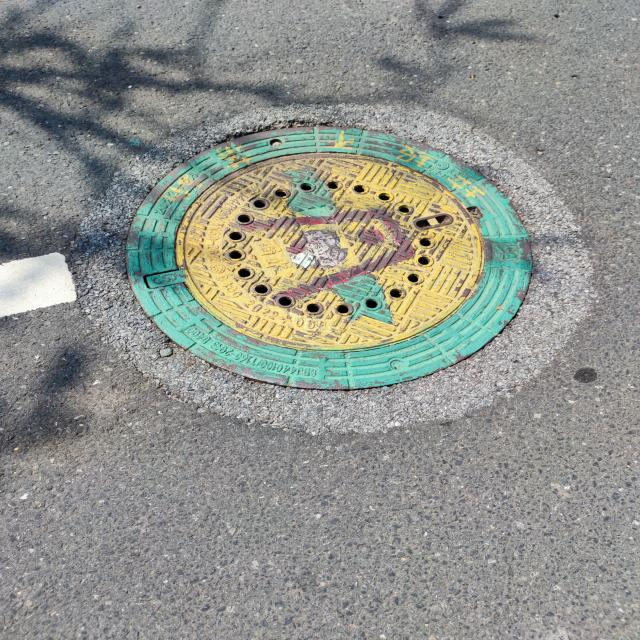Good: (79, 100, 601, 432)
